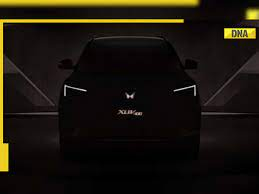XUV 400: (56, 35, 204, 159)
